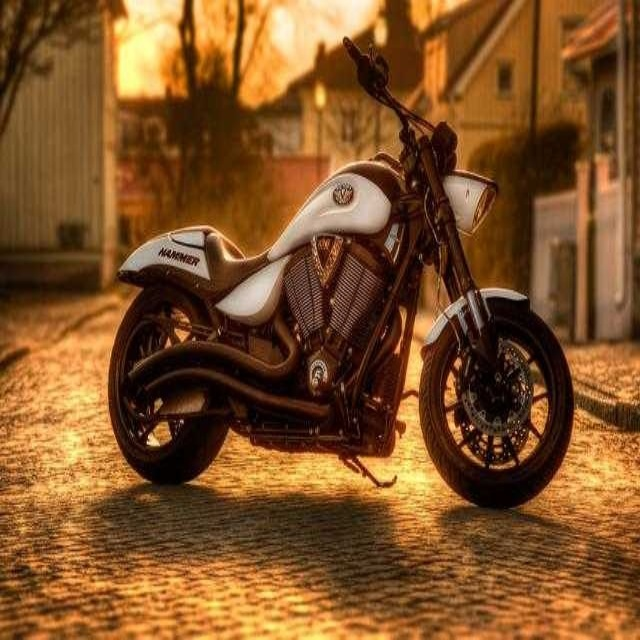Motorcycle: (109, 36, 574, 509)
